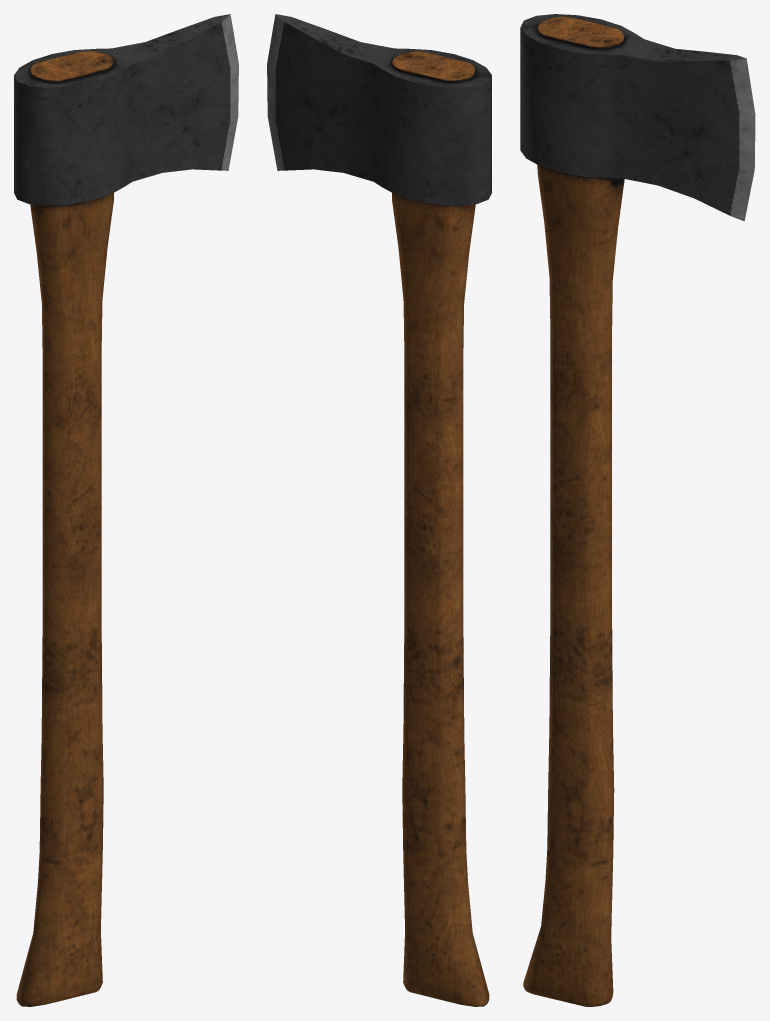
File: Axe.fbx
3 renders of one model, left to right at view 1: azimuth 30°, elevation 25°; view 2: azimuth 150°, elevation 25°; view 3: azimuth 330°, elevation 25°, orthographic. The views are drawn at different scales.
Visible parts, largest first — view 1: Axe; view 2: Axe; view 3: Axe.
Part boxes in pixels (x1,y1,x2,y2): Axe: (14,14,238,1006); Axe: (267,14,491,1006); Axe: (520,14,755,1006).
Bounding box in the file's own units: 14.78 × 60.03 × 4.52.
